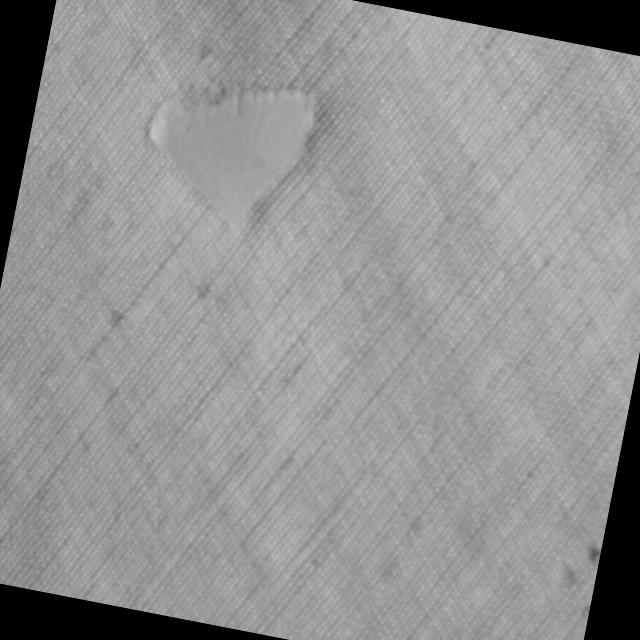objects: (127, 55, 326, 243)
